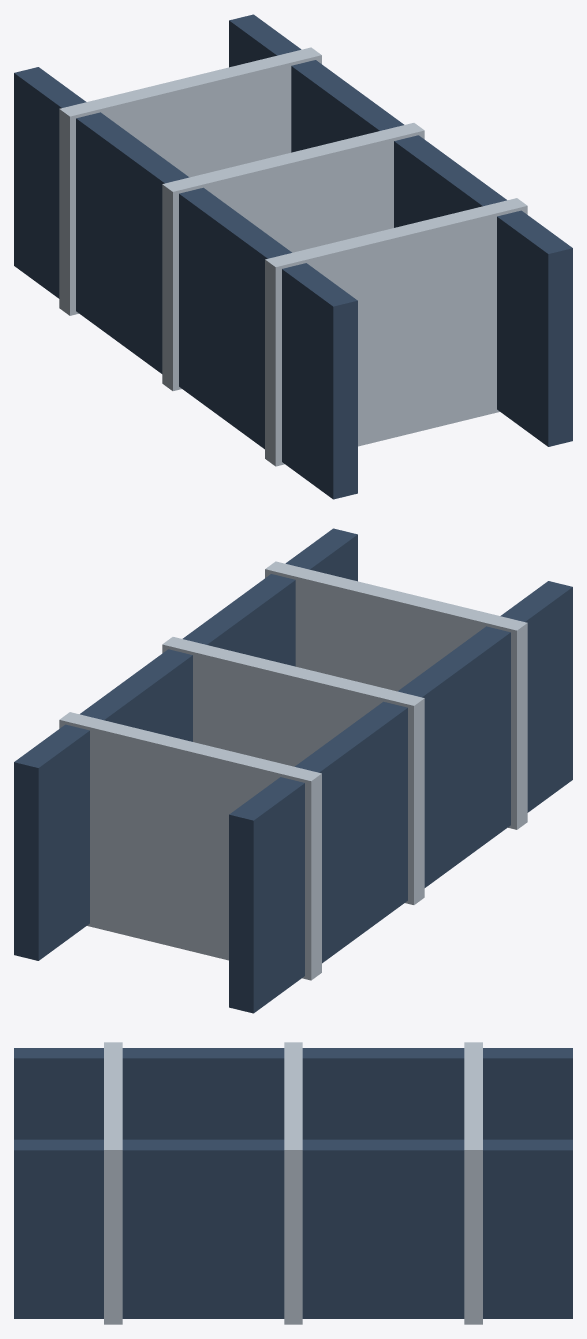
The model's file is rack.glb.
3 views of the same model, one above another, from view 1: azimuth 30°, elevation 25°; view 2: azimuth 150°, elevation 25°; view 3: azimuth 270°, elevation 25° (orthographic). The views are drawn at different scales.
Parts seen in each view (by area): view 1: post, shelf, post.001, shelf.002, shelf.001; view 2: post, shelf.002, post.001, shelf, shelf.001; view 3: post.001, post, shelf, shelf.001, shelf.002.
Boxes of the visible parts, bbox=[...] form: post: bbox=[14, 67, 357, 499]; shelf: bbox=[265, 198, 527, 466]; post.001: bbox=[229, 14, 572, 446]; shelf.002: bbox=[59, 47, 321, 315]; shelf.001: bbox=[162, 123, 424, 390]; post: bbox=[229, 581, 572, 1013]; shelf.002: bbox=[59, 712, 321, 980]; post.001: bbox=[14, 528, 357, 960]; shelf: bbox=[265, 561, 527, 829]; shelf.001: bbox=[162, 637, 424, 904]; post.001: bbox=[14, 1139, 572, 1318]; post: bbox=[14, 1048, 572, 1139]; shelf: bbox=[104, 1042, 122, 1324]; shelf.001: bbox=[284, 1042, 302, 1324]; shelf.002: bbox=[464, 1042, 482, 1324].
Size of the model in its own units: 0.82 by 0.62 by 1.8.
